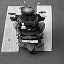motor: (12, 6, 45, 53)
